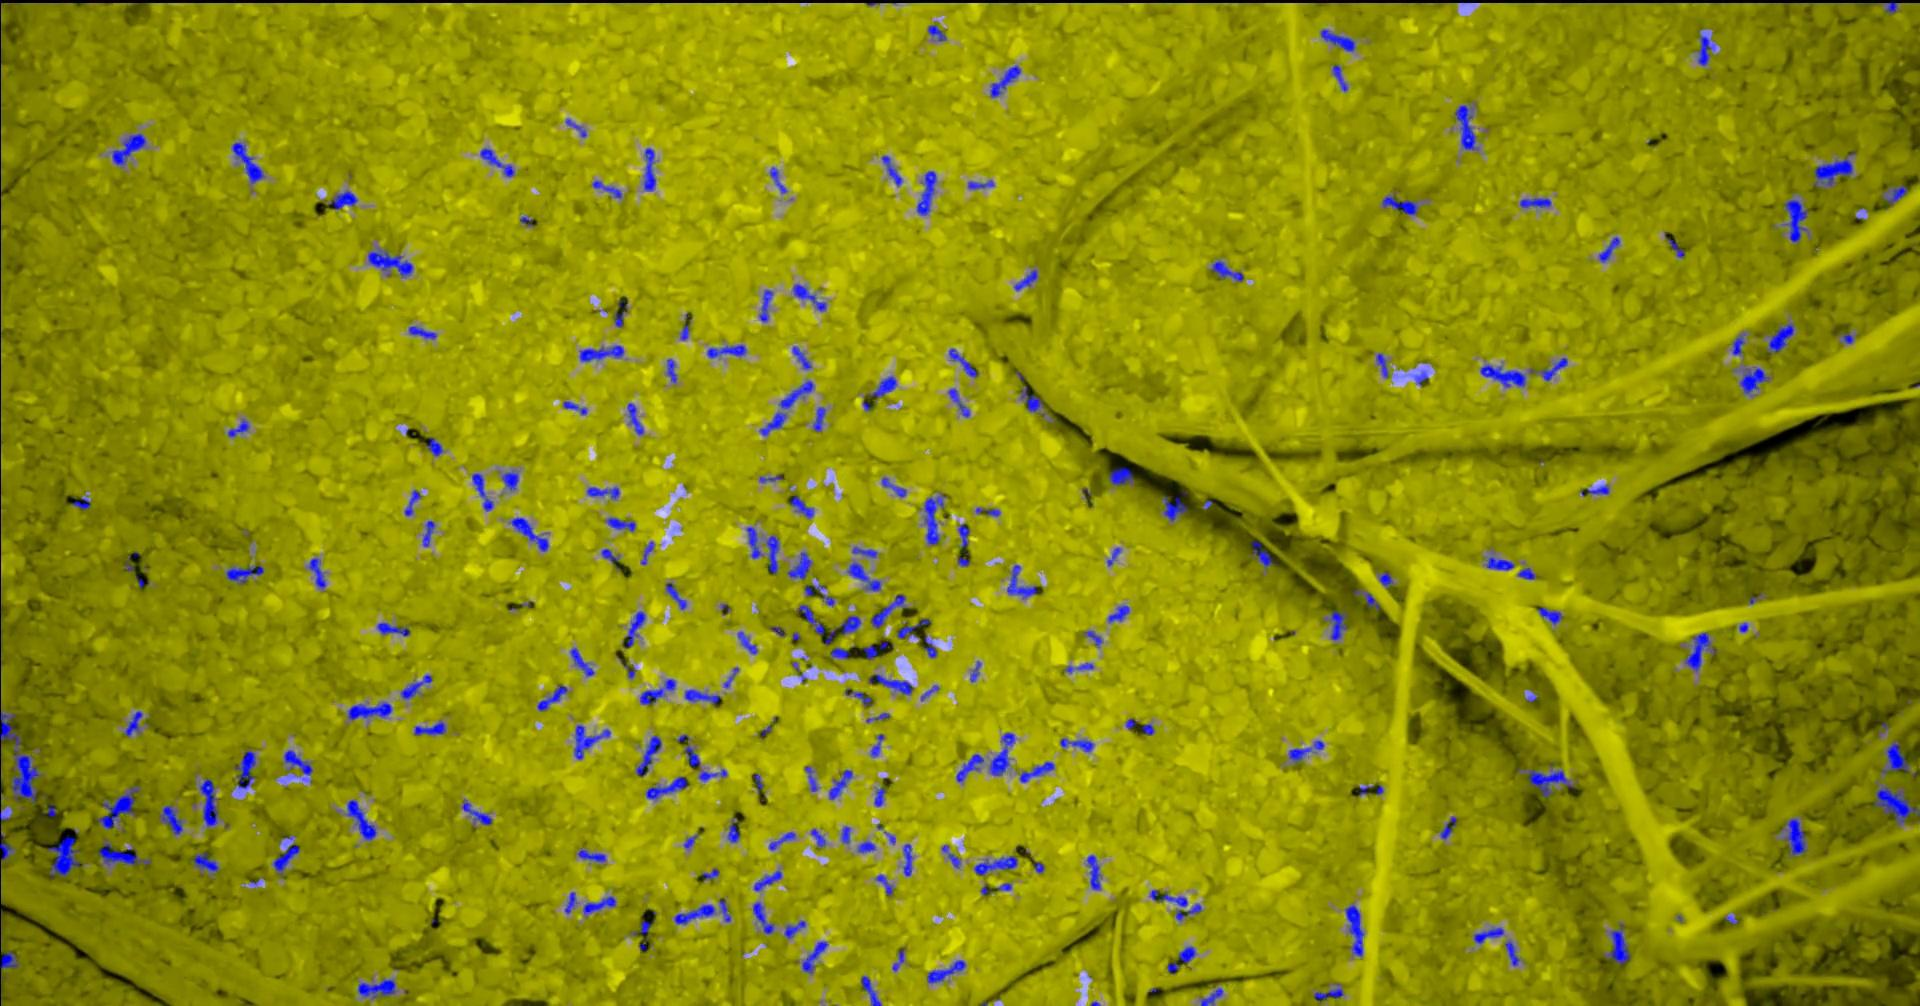ant: (759, 380, 813, 434), (1870, 786, 1919, 824), (97, 785, 138, 828), (1149, 889, 1201, 920), (47, 835, 83, 878), (1813, 151, 1854, 185), (98, 840, 151, 865), (509, 517, 549, 551), (231, 142, 264, 183), (1528, 768, 1575, 796), (573, 724, 610, 760), (367, 248, 411, 277), (0, 909, 17, 987), (1006, 564, 1041, 600), (345, 799, 376, 840), (870, 594, 905, 627), (1604, 922, 1630, 964), (923, 493, 945, 544), (989, 732, 1015, 775), (635, 735, 662, 775), (110, 133, 145, 164), (1783, 199, 1807, 243), (479, 147, 514, 177), (1481, 365, 1525, 387), (1343, 904, 1363, 956), (1454, 105, 1477, 149), (1685, 633, 1710, 671), (1879, 741, 1909, 774), (846, 561, 880, 589), (926, 959, 965, 983), (639, 678, 676, 704), (645, 776, 686, 799), (990, 65, 1020, 97), (792, 283, 825, 311), (916, 170, 936, 215), (199, 779, 218, 826), (869, 673, 912, 694), (974, 855, 1017, 875), (1529, 357, 1567, 380), (283, 749, 312, 779), (461, 798, 491, 826), (536, 685, 568, 711), (272, 843, 298, 875), (622, 610, 645, 647), (0, 801, 13, 868), (471, 473, 493, 511), (234, 749, 255, 788), (949, 348, 977, 377), (1738, 367, 1769, 394), (347, 701, 392, 719), (1288, 741, 1323, 763), (801, 941, 827, 973), (1784, 818, 1806, 855), (1321, 28, 1355, 51), (955, 753, 983, 781), (867, 375, 897, 401), (797, 605, 824, 634), (1768, 323, 1793, 353), (357, 978, 395, 998), (1018, 761, 1054, 782), (400, 674, 432, 699), (674, 904, 714, 923), (828, 768, 852, 799), (752, 901, 773, 934), (1251, 540, 1277, 567), (570, 647, 594, 676), (1382, 196, 1417, 215), (579, 345, 623, 361), (1161, 495, 1187, 521), (225, 565, 263, 583), (1210, 260, 1243, 281), (159, 805, 182, 835), (787, 553, 811, 579), (947, 387, 969, 417), (860, 976, 881, 1005), (897, 619, 930, 638), (881, 155, 902, 185), (1020, 385, 1043, 412), (582, 895, 615, 913), (1352, 589, 1380, 610), (753, 870, 781, 890), (328, 191, 357, 210), (789, 495, 813, 518), (706, 344, 745, 358), (1597, 236, 1619, 262), (665, 582, 686, 608), (862, 641, 893, 659), (684, 688, 720, 704), (1855, 0, 1897, 13), (643, 149, 655, 191), (1697, 36, 1714, 65), (592, 180, 621, 198), (1330, 610, 1347, 639), (768, 831, 795, 850), (627, 401, 643, 434), (309, 558, 325, 588), (1313, 983, 1343, 1000), (766, 535, 778, 574), (1086, 854, 1100, 889), (1013, 269, 1037, 290), (123, 710, 142, 735), (193, 852, 218, 871), (844, 688, 871, 706), (745, 527, 761, 558), (1473, 927, 1503, 942), (376, 622, 409, 636), (1883, 185, 1907, 205), (792, 345, 811, 370), (1109, 466, 1133, 485), (941, 843, 960, 868), (1537, 606, 1562, 624), (758, 290, 772, 321), (413, 721, 444, 735), (737, 631, 757, 653), (837, 615, 860, 634), (1059, 738, 1093, 751), (881, 478, 905, 495), (1332, 64, 1347, 91), (770, 166, 786, 192), (585, 486, 618, 499), (404, 489, 420, 514), (606, 517, 635, 531), (1484, 556, 1514, 570), (408, 325, 436, 339), (565, 118, 585, 137), (1503, 940, 1519, 965), (227, 418, 249, 436), (1107, 605, 1129, 622), (875, 874, 893, 895), (783, 920, 805, 937), (1200, 987, 1222, 1005), (1440, 815, 1457, 838), (613, 300, 627, 326), (577, 848, 604, 861), (422, 520, 434, 546), (811, 406, 825, 431), (1519, 197, 1550, 207), (804, 766, 817, 791), (902, 843, 912, 875), (1580, 484, 1608, 495), (698, 768, 726, 780), (632, 920, 650, 937), (1667, 238, 1684, 257), (425, 436, 442, 455), (502, 471, 518, 490), (810, 828, 825, 848), (1375, 353, 1388, 377), (684, 746, 698, 767), (1064, 662, 1093, 672), (601, 547, 618, 564), (1084, 630, 1102, 647), (563, 401, 585, 414), (640, 541, 653, 564), (870, 733, 883, 756), (728, 817, 739, 842), (564, 890, 577, 913), (665, 358, 677, 382), (957, 523, 969, 547), (852, 546, 876, 558), (1732, 333, 1745, 354), (923, 635, 936, 657), (927, 24, 945, 39), (679, 312, 690, 339), (71, 495, 90, 509), (719, 898, 730, 921), (969, 661, 982, 681), (872, 786, 885, 807), (1178, 946, 1195, 962), (891, 949, 903, 970), (1517, 567, 1537, 579), (829, 647, 850, 658), (1378, 572, 1392, 588), (968, 180, 993, 189), (857, 840, 875, 852), (804, 586, 825, 596), (975, 507, 999, 516), (1415, 370, 1429, 385), (753, 774, 763, 793), (701, 868, 717, 879), (1140, 723, 1153, 735), (957, 553, 969, 567), (841, 826, 850, 843), (1167, 962, 1180, 973)
